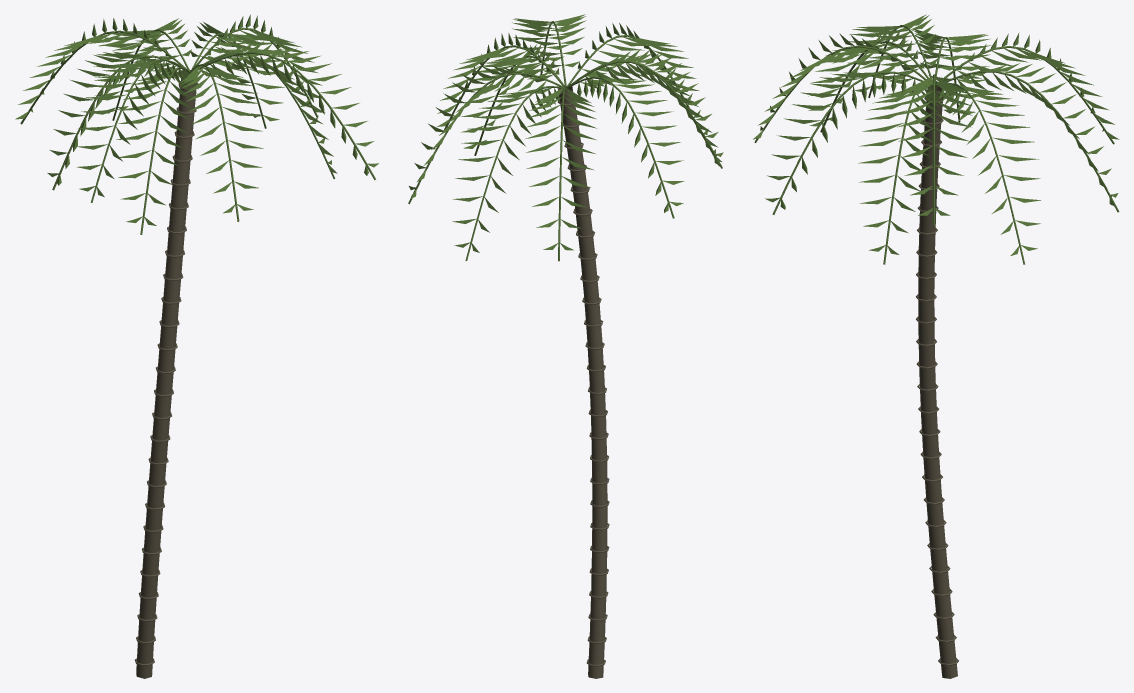
The model's file is prop_palm.glb.
The picture shows the model from 3 angles, left to right: view 1: azimuth 30°, elevation 25°; view 2: azimuth 150°, elevation 25°; view 3: azimuth 270°, elevation 25°; orthographic projection. The views are drawn at different scales.
Visible parts, largest first — view 1: base__art06_leaf_sun, base__art06_weathered_bark; view 2: base__art06_leaf_sun, base__art06_weathered_bark; view 3: base__art06_leaf_sun, base__art06_weathered_bark.
Boxes of the visible parts, x1,y1,x2,y2 form: base__art06_leaf_sun: (15, 14, 378, 234); base__art06_weathered_bark: (135, 70, 197, 678); base__art06_leaf_sun: (408, 14, 723, 261); base__art06_weathered_bark: (557, 86, 609, 678); base__art06_leaf_sun: (753, 14, 1119, 264); base__art06_weathered_bark: (916, 82, 958, 678).
Bounding box in the file's own units: 7.85 × 17.94 × 9.32.
